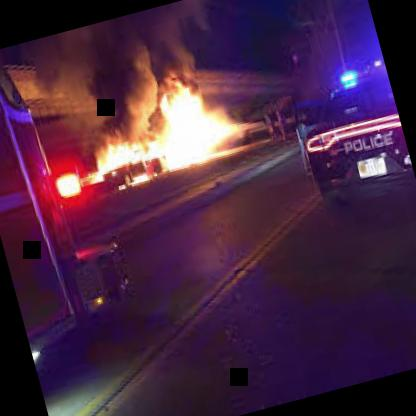fire: (64, 46, 233, 202)
